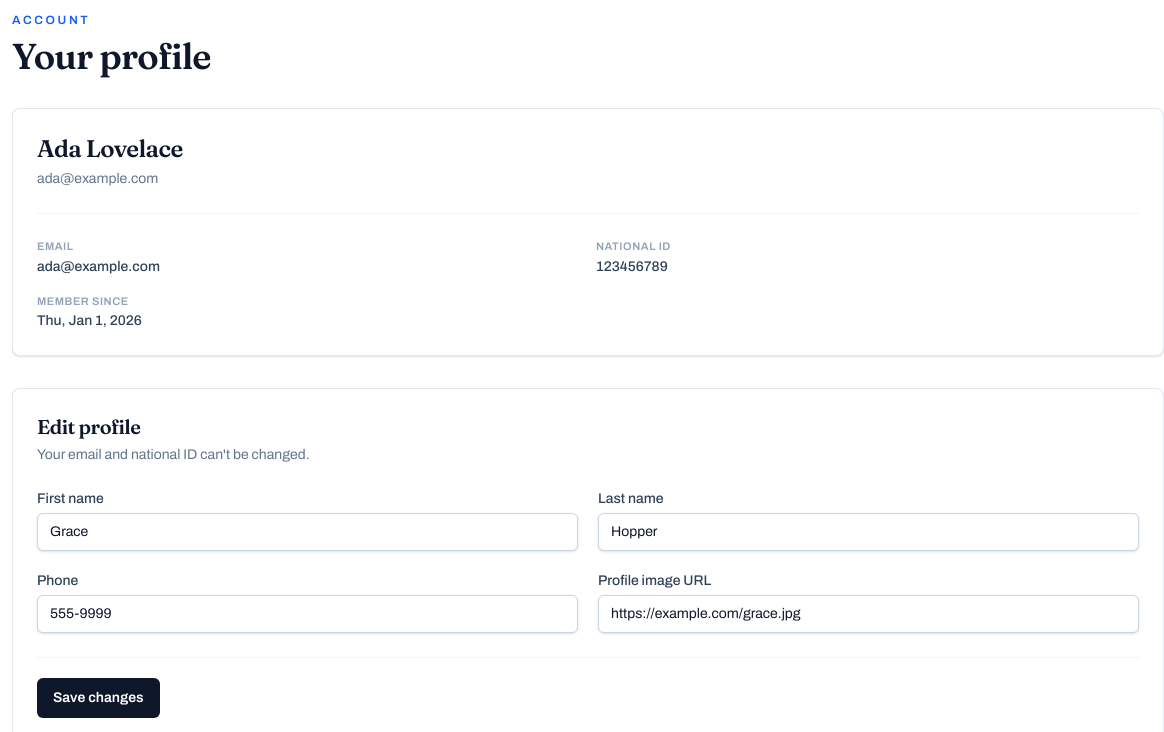
Scenario: Profile › saves changes with PUT and updates the auth user signal
The width and height of the screenshot is (1164, 732).
Step 1. Click the button "Save changes" → (98, 698), box [37,678,160,718]
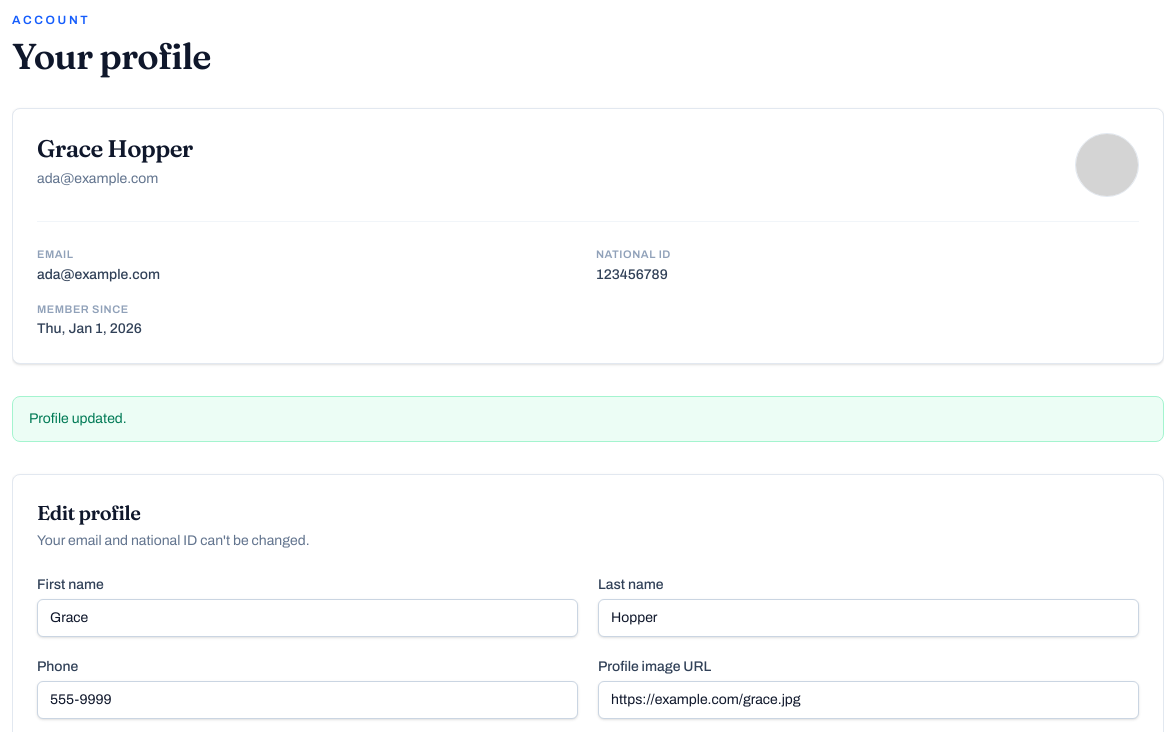
expect the text "Profile updated." is shown: met, box [12,396,1163,442]
